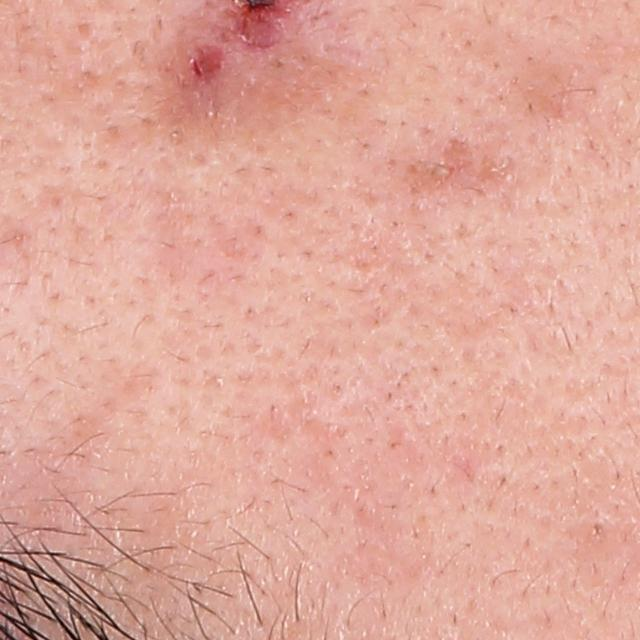comedo: (583, 517, 607, 544)
papule: (173, 32, 235, 95)
